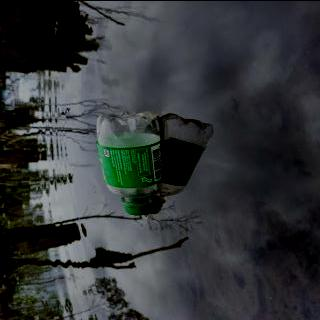bottle: (92, 107, 167, 217)
